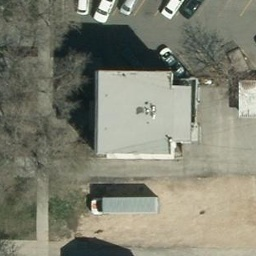car: (159, 47, 185, 81), (94, 1, 113, 23), (181, 1, 204, 17), (160, 1, 180, 19), (119, 1, 135, 15), (74, 1, 91, 14)
